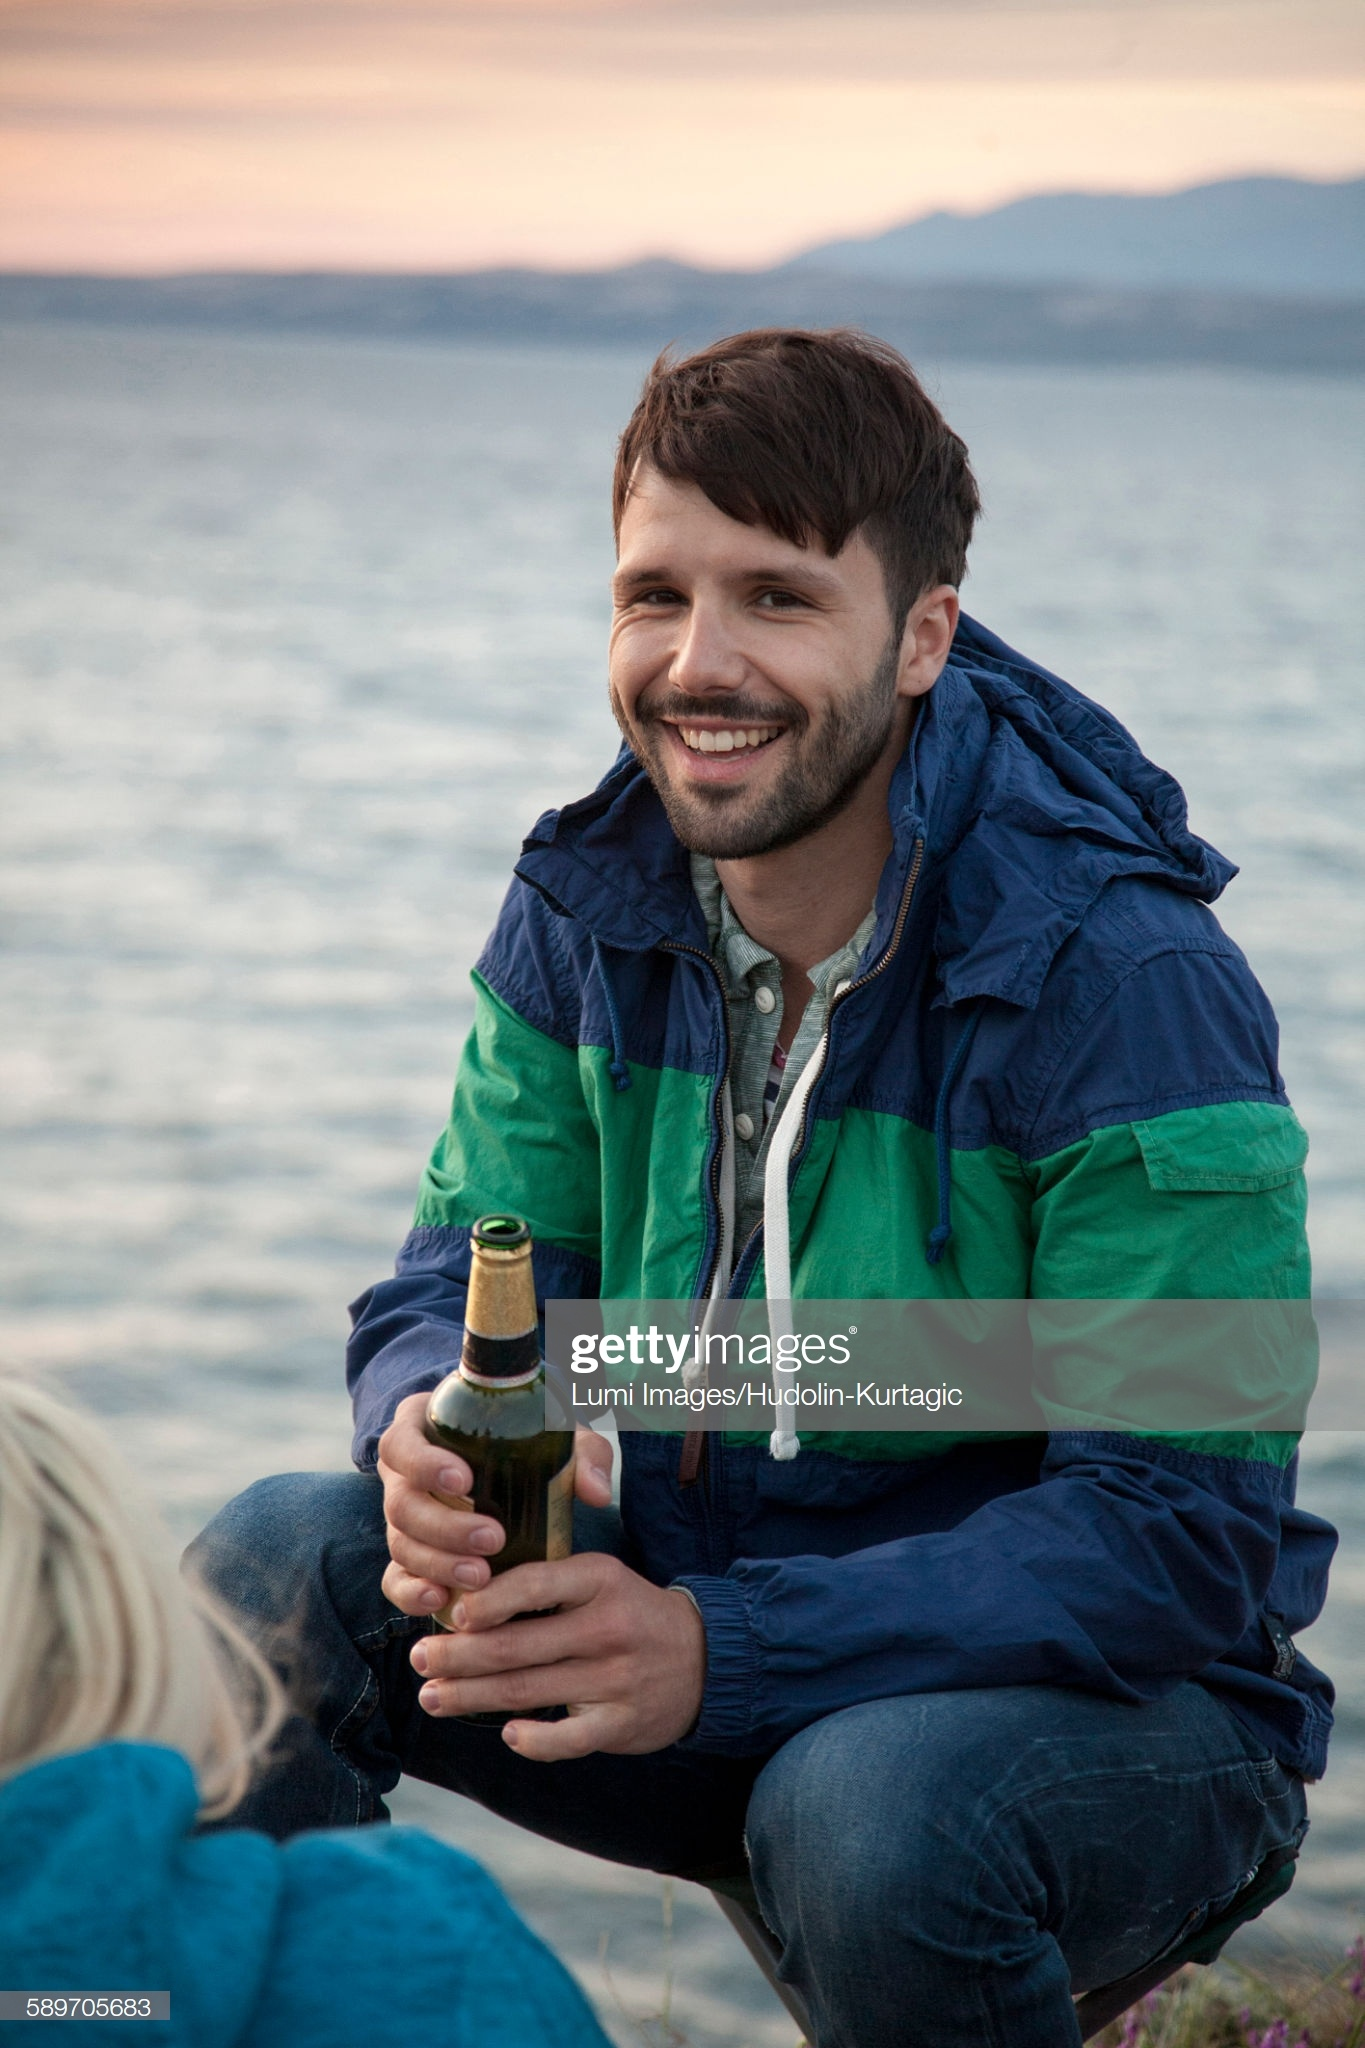beerBottle: (430, 1211, 583, 1626)
